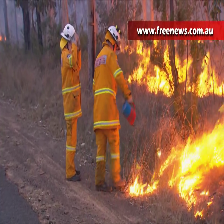fire_h: (159, 121, 224, 218), (128, 39, 192, 97), (188, 49, 224, 99), (126, 174, 156, 197)
fire_l: (194, 209, 203, 218), (197, 39, 213, 44), (200, 189, 210, 197), (157, 148, 162, 157), (1, 34, 7, 41), (207, 200, 213, 206)
